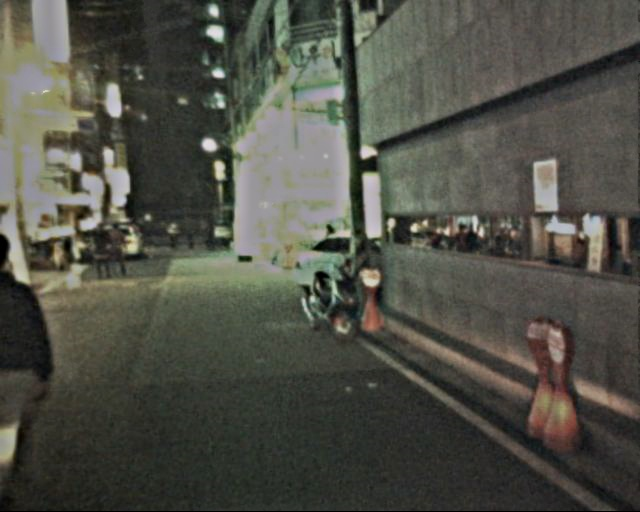person: (3, 228, 71, 510), (135, 218, 221, 259), (107, 221, 134, 281), (90, 218, 115, 280)
